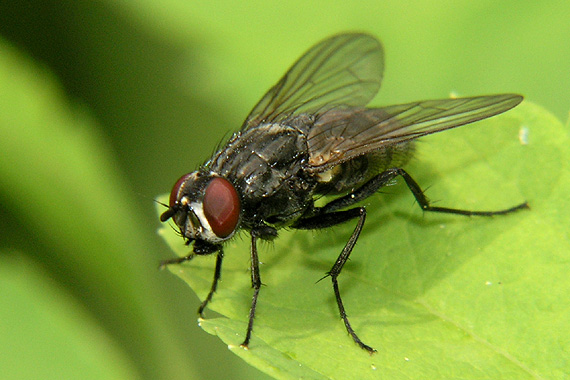fly: (153, 20, 536, 355)
